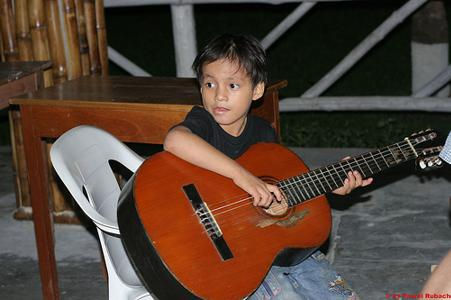person: (164, 32, 375, 300)
